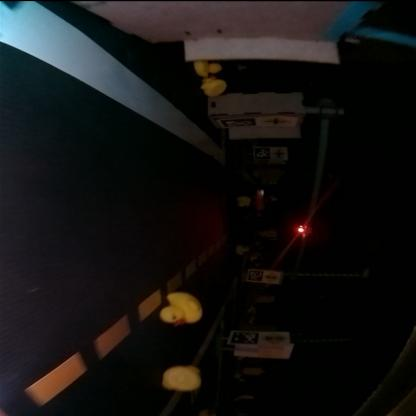Duckie: (160, 292, 202, 325), (164, 366, 200, 392), (197, 60, 223, 76), (204, 80, 228, 96), (236, 245, 250, 254), (240, 196, 251, 206)
Intersection sign: (264, 116, 292, 126), (272, 148, 286, 158)
QR code: (229, 332, 260, 346), (220, 118, 258, 128), (248, 270, 264, 282), (256, 148, 270, 160)
Signal sign: (264, 332, 288, 344), (265, 272, 279, 282)
Traffic light: (298, 225, 308, 233)
